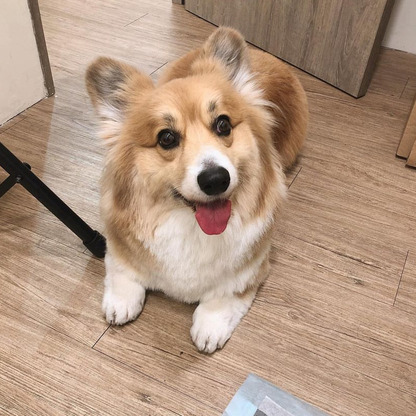Corgi: (73, 35, 326, 334)
